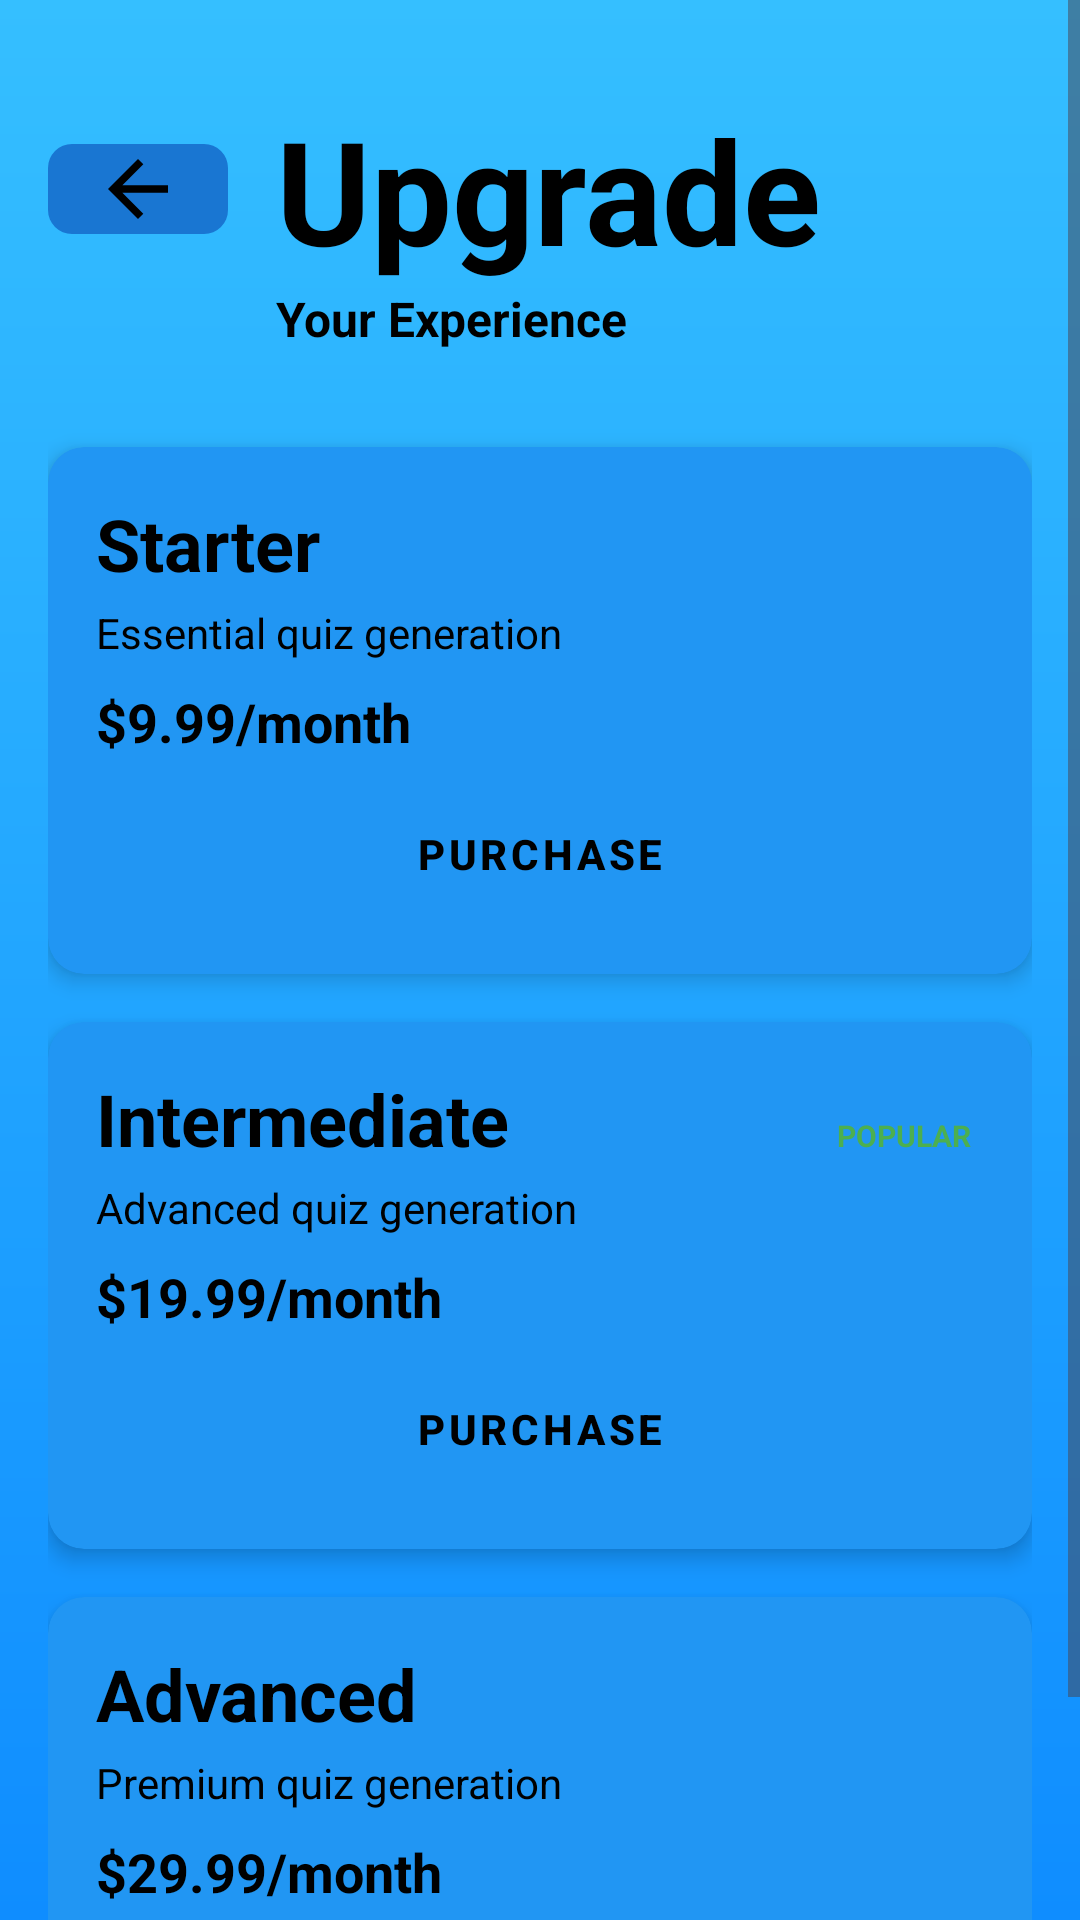

Icon bounding boxes for this 1080px x 1920px phone screenshot, format [x1, y1, x2, y2]:
arrow back: [48, 144, 228, 234]
